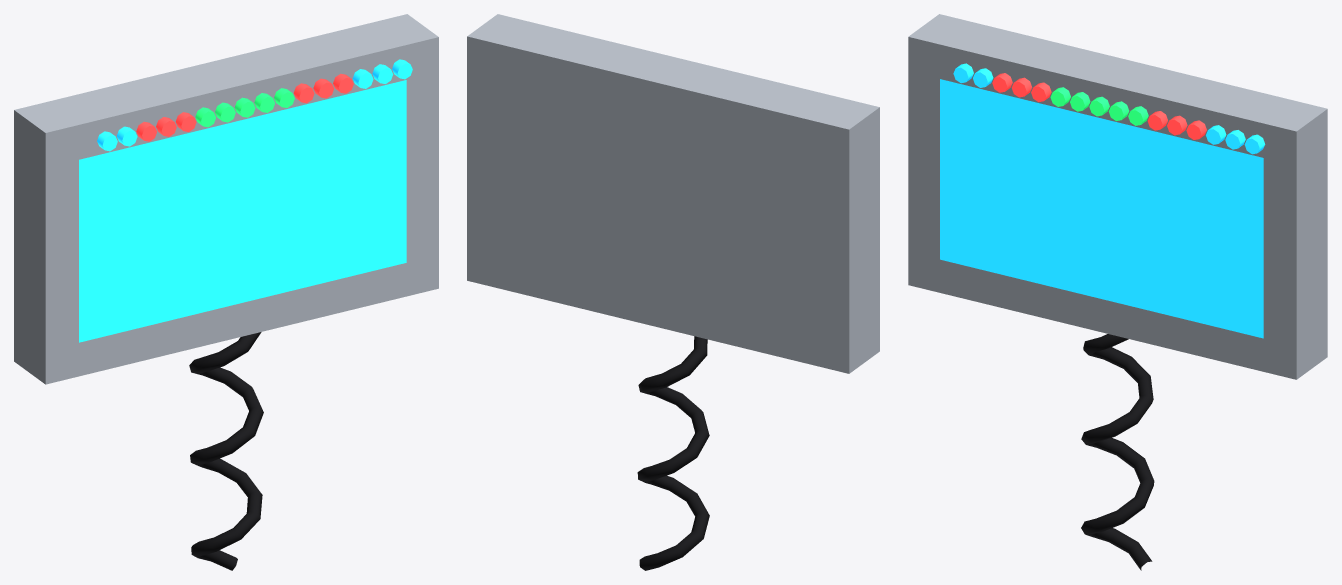
Rendered from cockpit_dash_display.glb.
3 views of the same model, side by side, from view 1: azimuth 30°, elevation 25°; view 2: azimuth 150°, elevation 25°; view 3: azimuth 330°, elevation 25° (orthographic). The views are drawn at different scales.
Parts seen in each view (by area): view 1: Cockpit_Dash_Shift_Lights_Assembly; view 2: Cockpit_Dash_Shift_Lights_Assembly; view 3: Cockpit_Dash_Shift_Lights_Assembly.
Part boxes in pixels (x1,y1,x2,y2): Cockpit_Dash_Shift_Lights_Assembly: (14, 14, 438, 570); Cockpit_Dash_Shift_Lights_Assembly: (467, 14, 879, 570); Cockpit_Dash_Shift_Lights_Assembly: (908, 14, 1327, 570).
Bounding box in the file's own units: 0.18 × 0.2225 × 0.032.
